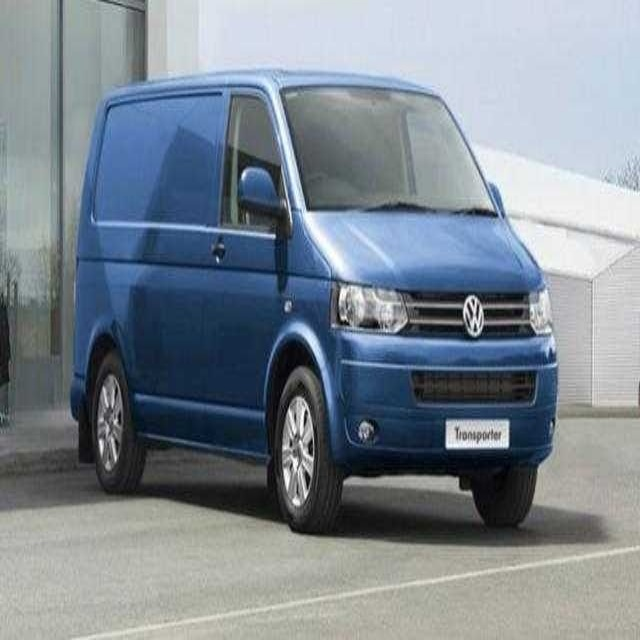Van: (69, 63, 559, 535)
